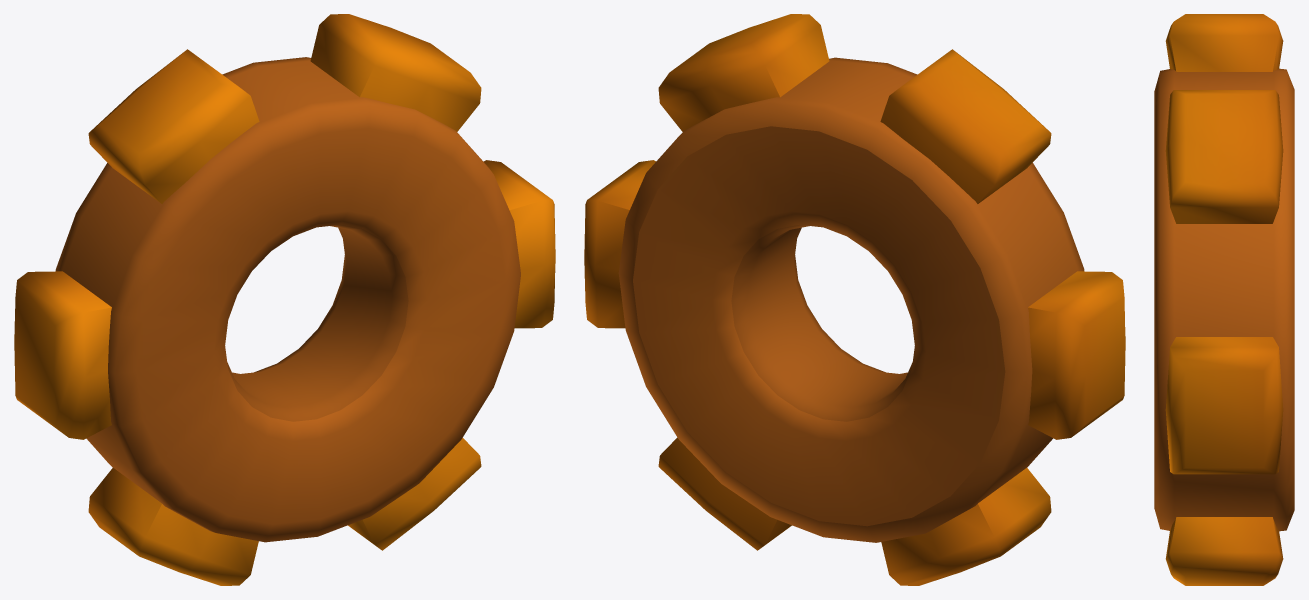
The model's file is Gear_V3_0.fbx.
3 views of the same model, side by side, from view 1: azimuth 30°, elevation 25°; view 2: azimuth 150°, elevation 25°; view 3: azimuth 270°, elevation 25° (orthographic). The views are drawn at different scales.
Visible parts, largest first — view 1: Gear_V3_0; view 2: Gear_V3_0; view 3: Gear_V3_0.
Boxes of the visible parts, left/top/right/bottom form: Gear_V3_0: left=14, top=14, right=555, bottom=585; Gear_V3_0: left=584, top=14, right=1125, bottom=585; Gear_V3_0: left=1154, top=14, right=1294, bottom=585.
Bounding box in the file's own units: 0.535 × 0.5115 × 0.1326.
